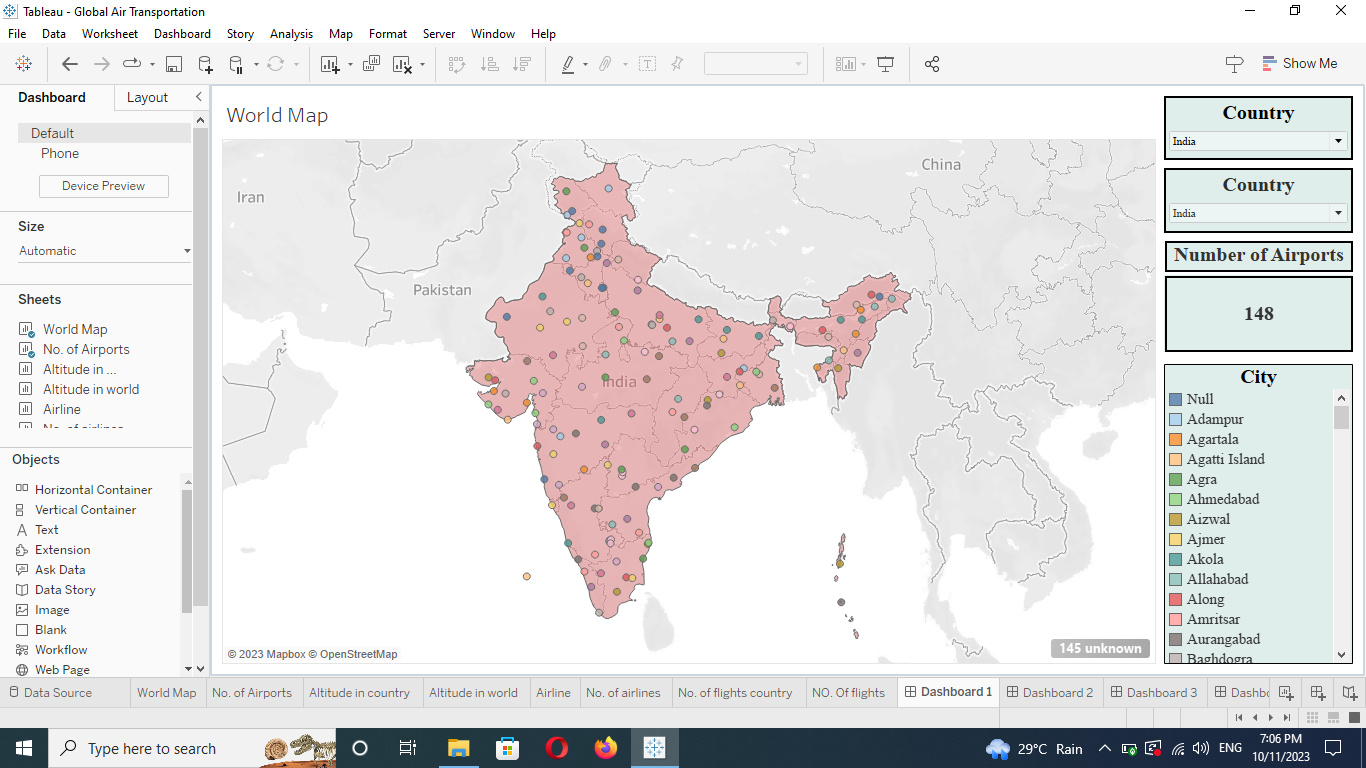

What the dashboard file says about the page in this screenshot:
{"tool":"tableau","page":{"name":"Dashboard 1","canvas":[1000,1000],"units":"permille","ordinal":0},"visuals":[{"type":"worksheet","title":"World Map","mark":"Multipolygon","rows":["Latitude"],"cols":["Longitude","Longitude"],"box":[6.9,13.5,815.6,973]},{"type":"filter","title":"World Map","param":"[federated.0mnjfow1o9cxgx1b9vua4074vz4p].[none:Country (airports.csv):nk]","box":[822.5,13.5,170.6,121.6]},{"type":"filter","title":"No. of Airports","param":"[federated.0mnjfow1o9cxgx1b9vua4074vz4p].[none:Country (airports.csv):nk]","box":[822.5,135.1,170.6,123.3]},{"type":"worksheet","title":"No. of Airports","mark":"Automatic","box":[822.5,258.4,170.6,207.8]},{"type":"legend","title":"World Map","param":"[federated.0mnjfow1o9cxgx1b9vua4074vz4p].[none:City:nk]","box":[822.5,466.2,170.6,520.3]}]}

Visuals, with their boxes on the dashboard's canvas, which has no fixed pixel size, in thousandths of its width and height (x1, y1, x2, y2). These are canvas units, not pixel positions in the 1366x768 screenshot, which may show the page scaled, cropped or inside an application window:
"World Map" worksheet (Multipolygon marks): [left=7, top=14, right=822, bottom=986]
"World Map" filter: [left=822, top=14, right=993, bottom=135]
"No. of Airports" filter: [left=822, top=135, right=993, bottom=258]
"No. of Airports" worksheet: [left=822, top=258, right=993, bottom=466]
"World Map" legend: [left=822, top=466, right=993, bottom=986]
